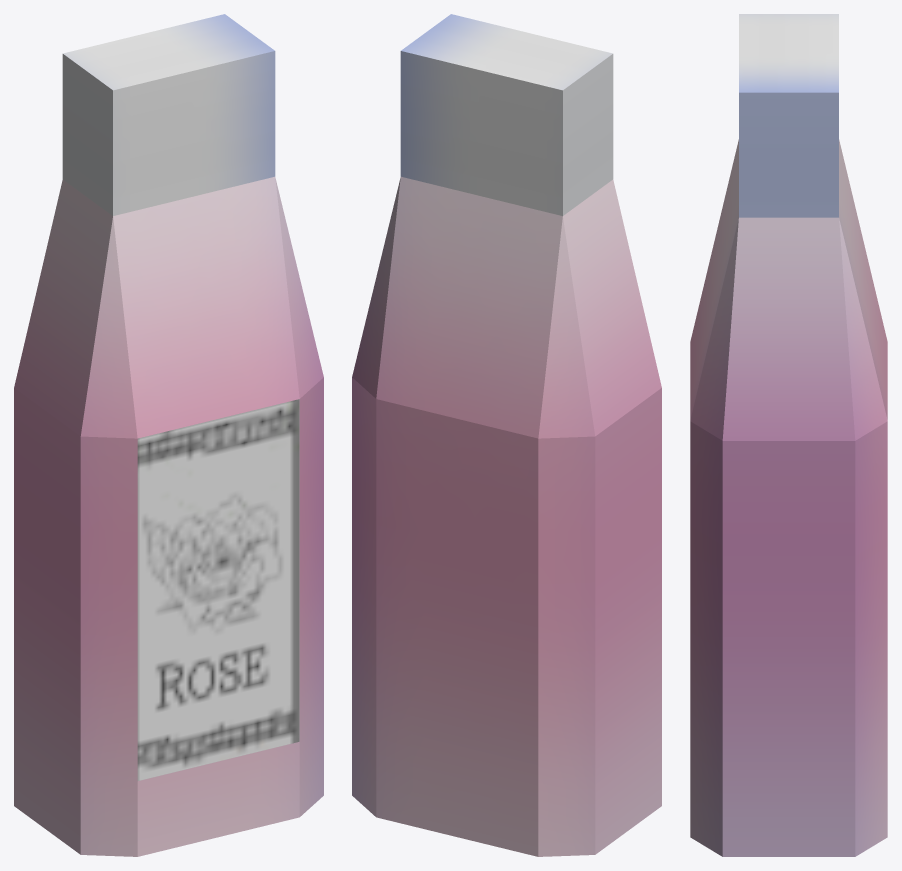
The model's file is giftgoods108b.fbx.
3 renders of one model, left to right at view 1: azimuth 30°, elevation 25°; view 2: azimuth 150°, elevation 25°; view 3: azimuth 270°, elevation 25°, orthographic.
Visible parts, largest first — view 1: giftgoods108b; view 2: giftgoods108b; view 3: giftgoods108b.
Part boxes in pixels (x1,y1,x2,y2): giftgoods108b: [14, 14, 323, 856]; giftgoods108b: [352, 14, 661, 856]; giftgoods108b: [690, 14, 887, 856].
Size of the model in its own units: 0.0443 by 0.1303 by 0.0313.
